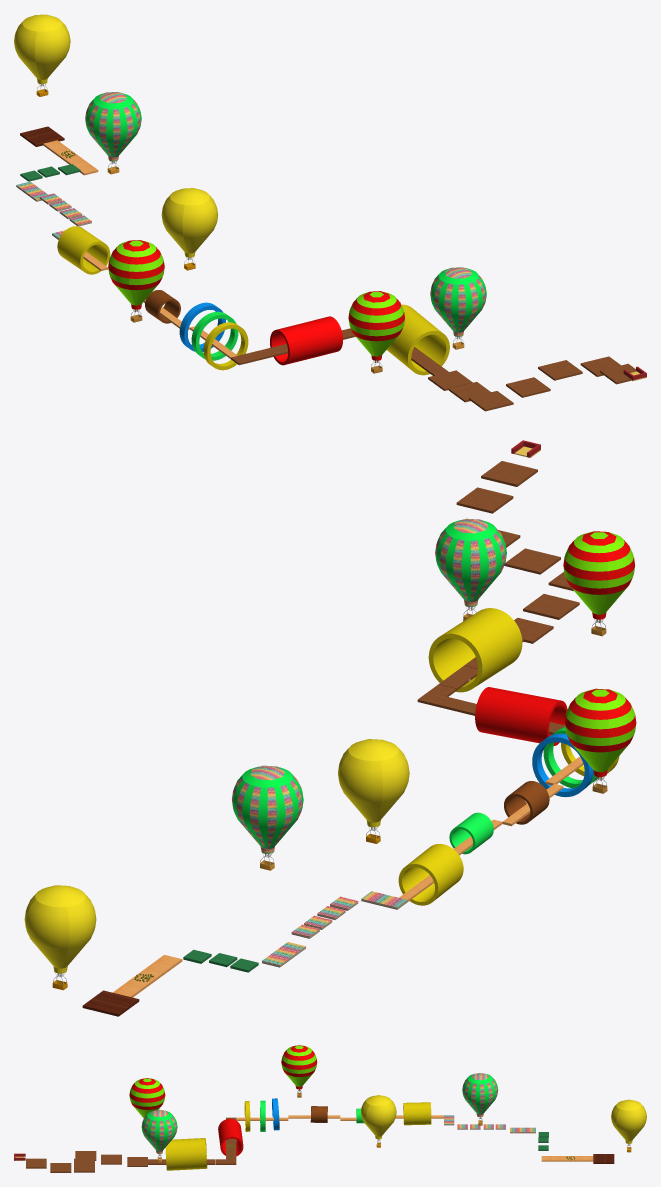
Rendered from LEVEL 12.fbx.
The picture shows the model from 3 angles, top to bottom: view 1: azimuth 30°, elevation 25°; view 2: azimuth 150°, elevation 25°; view 3: azimuth 270°, elevation 25°; orthographic projection. The views are drawn at different scales.
Visible parts, largest first — view 1: ballon_5, ballon_3, ballon, ballon_1, ballon_4, ballon_2, red_ring, yellow_ring__1_, yellow_ring__2_, green_ring, yellow_ring, orange_ring (+7 smaller); view 2: yellow_ring__1_, ballon_3, ballon, ballon_1, ballon_4, ballon_2, ballon_5, red_ring, yellow_ring__2_, polySurface3, orange_ring, blue_ring (+7 smaller); view 3: yellow_ring__1_, ballon, ballon_3, ballon_1, ballon_5, ballon_2, ballon_4, yellow_ring__2_, red_ring, polySurface3, polySurface4, orange_ring (+8 smaller).
Part boxes in pixels (x1,y1,x2,y2): ballon_5: [430, 267, 486, 349]; ballon_3: [108, 240, 164, 322]; ballon: [14, 14, 70, 96]; ballon_1: [85, 92, 141, 174]; ballon_4: [348, 291, 404, 373]; ballon_2: [161, 188, 217, 270]; red_ring: [270, 316, 342, 365]; yellow_ring__1_: [387, 304, 449, 375]; yellow_ring__2_: [57, 226, 110, 274]; green_ring: [191, 311, 238, 360]; yellow_ring: [203, 322, 248, 370]; orange_ring: [145, 290, 180, 323]; yellow_ring__1_: [428, 608, 522, 692]; ballon_3: [564, 688, 636, 793]; ballon: [24, 885, 96, 990]; ballon_1: [232, 765, 303, 870]; ballon_4: [563, 531, 634, 636]; ballon_2: [338, 739, 409, 843]; ballon_5: [435, 518, 506, 620]; red_ring: [475, 687, 567, 745]; yellow_ring__2_: [398, 844, 463, 905]; polySurface3: [399, 756, 583, 901]; orange_ring: [504, 781, 549, 824]; blue_ring: [532, 733, 593, 797]; yellow_ring__1_: [165, 1138, 207, 1170]; ballon: [611, 1099, 646, 1152]; ballon_3: [281, 1045, 317, 1097]; ballon_1: [462, 1073, 498, 1125]; ballon_5: [141, 1109, 177, 1162]; ballon_2: [360, 1095, 396, 1147]; ballon_4: [129, 1078, 165, 1118]; yellow_ring__2_: [403, 1102, 431, 1125]; red_ring: [218, 1119, 243, 1156]; polySurface3: [236, 1115, 443, 1120]; polySurface4: [541, 1156, 593, 1161]; orange_ring: [310, 1106, 327, 1122].
Size of the model in its own units: 8961 by 3288 by 24380.
28 materials, 13 textured.
